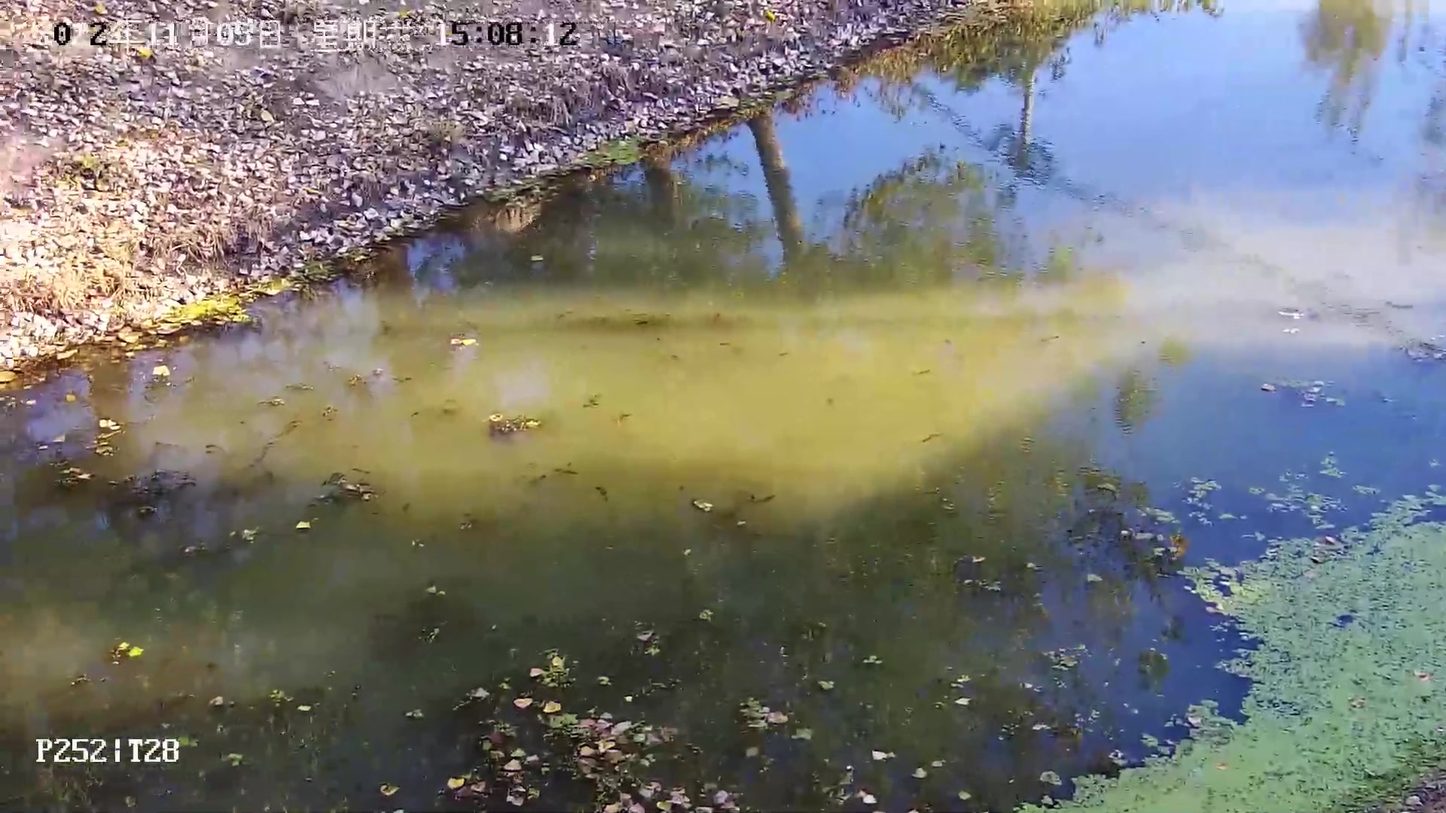floater: (1003, 456, 1446, 811), (437, 643, 789, 813), (41, 403, 200, 535), (1261, 364, 1361, 421), (307, 468, 389, 513), (810, 760, 871, 813), (953, 545, 1005, 601), (489, 413, 548, 433)
